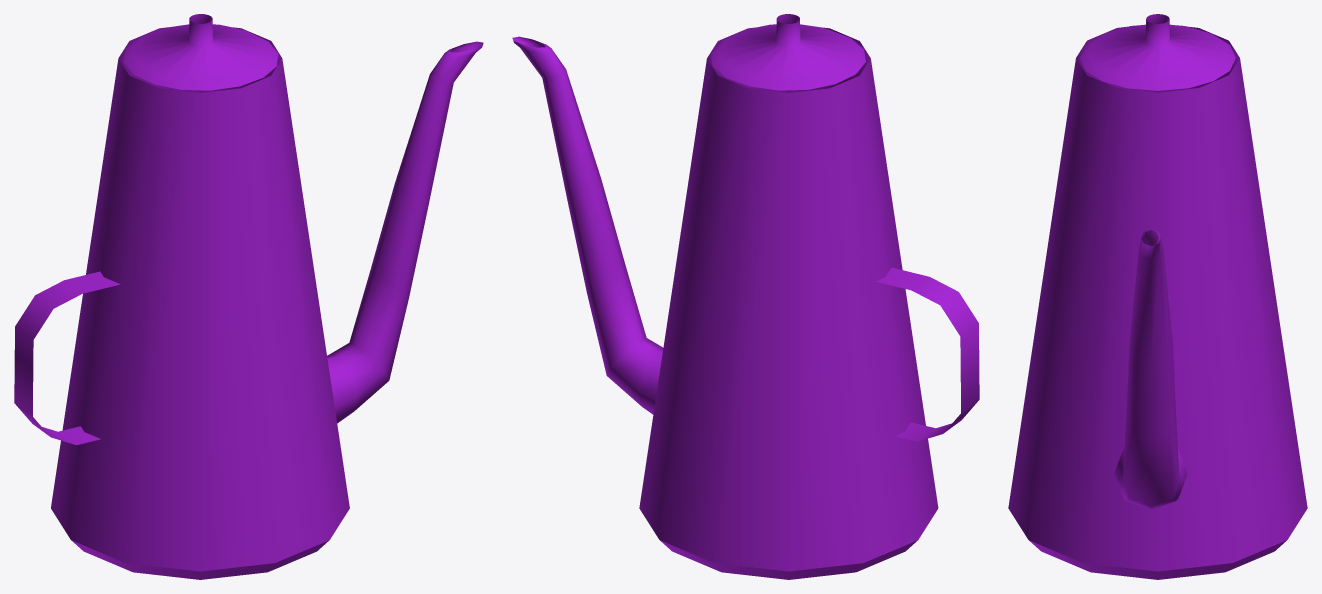
Rendered from shop cont teapot 2 lod1.FBX.
3 views of the same model, side by side, from view 1: azimuth 30°, elevation 25°; view 2: azimuth 150°, elevation 25°; view 3: azimuth 270°, elevation 25° (orthographic).
Parts seen in each view (by area): view 1: Cone002; view 2: Cone002; view 3: Cone002.
Part boxes in pixels (x1,y1,x2,y2): Cone002: (14, 14, 483, 579); Cone002: (512, 14, 979, 579); Cone002: (1008, 14, 1307, 579).
Bounding box in the file's own units: 0.649 × 0.6808 × 0.3663.
